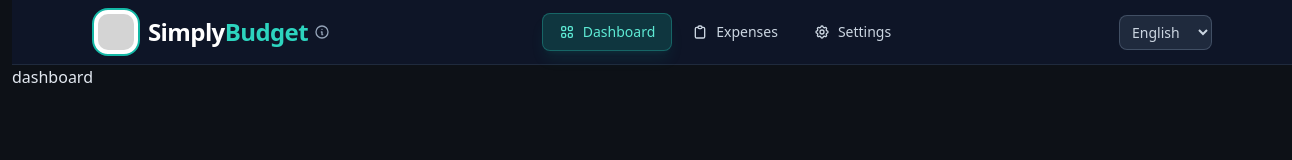
Test: Header › navigation › switches to expenses tab when clicked
The image size is (1292, 160).
Expected: the text "dashboard" is shown, [12,66,93,88]
Click the button "Expenses" at (735,32), box [676,14,794,50]
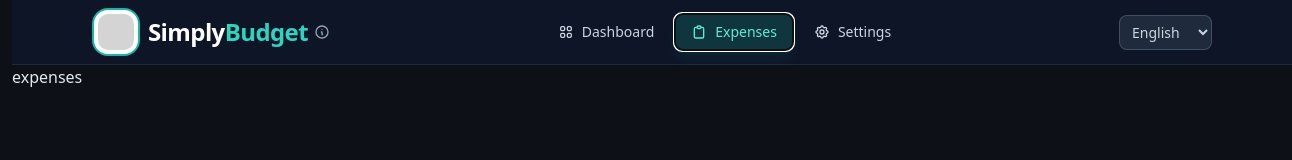
Expected: the text with test id "active-tab" reads "expenses", [12,66,82,88]
